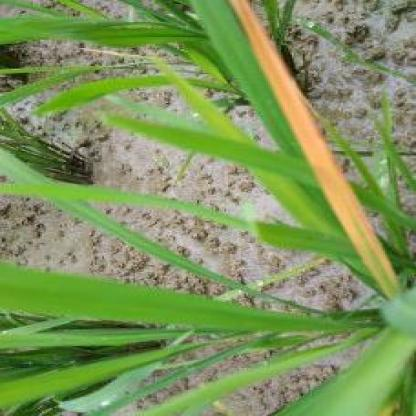Tungro: (228, 1, 402, 303)
